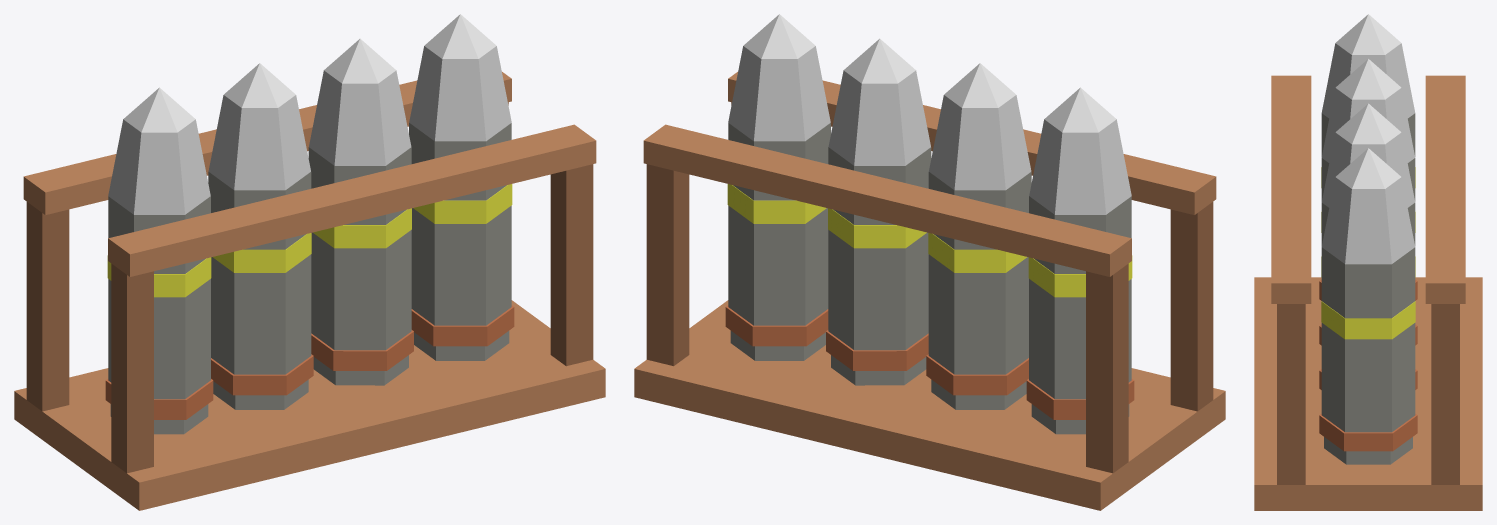
File: ce_ammo_artillery_smk_c.obj
3 views of the same model, side by side, from view 1: azimuth 30°, elevation 25°; view 2: azimuth 150°, elevation 25°; view 3: azimuth 270°, elevation 25° (orthographic). The views are drawn at different scales.
Visible parts, largest first — view 1: ce_ammo_artillery_smk_c_0, ce_ammo_artillery_smk_c_1, ce_ammo_artillery_smk_c_23, ce_ammo_artillery_smk_c_16, ce_ammo_artillery_smk_c_30, ce_ammo_artillery_smk_c_4, ce_ammo_artillery_smk_c_5, ce_ammo_artillery_smk_c_3, ce_ammo_artillery_smk_c_19, ce_ammo_artillery_smk_c_33, ce_ammo_artillery_smk_c_12, ce_ammo_artillery_smk_c_26 (+22 smaller); view 2: ce_ammo_artillery_smk_c_0, ce_ammo_artillery_smk_c_2, ce_ammo_artillery_smk_c_23, ce_ammo_artillery_smk_c_16, ce_ammo_artillery_smk_c_30, ce_ammo_artillery_smk_c_3, ce_ammo_artillery_smk_c_6, ce_ammo_artillery_smk_c_4, ce_ammo_artillery_smk_c_19, ce_ammo_artillery_smk_c_33, ce_ammo_artillery_smk_c_12, ce_ammo_artillery_smk_c_26 (+22 smaller); view 3: ce_ammo_artillery_smk_c_0, ce_ammo_artillery_smk_c_1, ce_ammo_artillery_smk_c_2, ce_ammo_artillery_smk_c_30, ce_ammo_artillery_smk_c_33, ce_ammo_artillery_smk_c_5, ce_ammo_artillery_smk_c_6, ce_ammo_artillery_smk_c_32, ce_ammo_artillery_smk_c_19, ce_ammo_artillery_smk_c_26, ce_ammo_artillery_smk_c_12, ce_ammo_artillery_smk_c_31 (+9 smaller).
Boxes of the visible parts, <box> form: ce_ammo_artillery_smk_c_0: <box>14,300,605,510</box>; ce_ammo_artillery_smk_c_1: <box>108,124,596,276</box>; ce_ammo_artillery_smk_c_23: <box>311,230,411,350</box>; ce_ammo_artillery_smk_c_16: <box>211,254,311,374</box>; ce_ammo_artillery_smk_c_30: <box>411,205,511,325</box>; ce_ammo_artillery_smk_c_4: <box>26,202,69,411</box>; ce_ammo_artillery_smk_c_5: <box>550,164,593,366</box>; ce_ammo_artillery_smk_c_3: <box>111,263,153,473</box>; ce_ammo_artillery_smk_c_19: <box>208,95,310,190</box>; ce_ammo_artillery_smk_c_33: <box>409,46,511,141</box>; ce_ammo_artillery_smk_c_12: <box>108,119,210,214</box>; ce_ammo_artillery_smk_c_26: <box>309,70,411,165</box>; ce_ammo_artillery_smk_c_0: <box>634,300,1225,510</box>; ce_ammo_artillery_smk_c_2: <box>643,124,1131,276</box>; ce_ammo_artillery_smk_c_23: <box>828,230,928,350</box>; ce_ammo_artillery_smk_c_16: <box>928,254,1028,374</box>; ce_ammo_artillery_smk_c_30: <box>728,205,828,325</box>; ce_ammo_artillery_smk_c_3: <box>1170,202,1213,411</box>; ce_ammo_artillery_smk_c_6: <box>646,164,689,366</box>; ce_ammo_artillery_smk_c_4: <box>1086,263,1128,473</box>; ce_ammo_artillery_smk_c_19: <box>929,95,1031,190</box>; ce_ammo_artillery_smk_c_33: <box>728,46,830,141</box>; ce_ammo_artillery_smk_c_12: <box>1029,119,1131,214</box>; ce_ammo_artillery_smk_c_26: <box>828,70,930,165</box>; ce_ammo_artillery_smk_c_0: <box>1254,277,1482,510</box>; ce_ammo_artillery_smk_c_1: <box>1271,75,1311,303</box>; ce_ammo_artillery_smk_c_2: <box>1425,75,1465,303</box>; ce_ammo_artillery_smk_c_30: <box>1321,323,1415,432</box>; ce_ammo_artillery_smk_c_33: <box>1321,177,1415,264</box>; ce_ammo_artillery_smk_c_5: <box>1277,304,1305,484</box>; ce_ammo_artillery_smk_c_6: <box>1431,304,1459,484</box>; ce_ammo_artillery_smk_c_32: <box>1321,247,1415,318</box>; ce_ammo_artillery_smk_c_19: <box>1321,88,1415,162</box>; ce_ammo_artillery_smk_c_26: <box>1321,132,1415,207</box>; ce_ammo_artillery_smk_c_12: <box>1321,43,1415,118</box>; ce_ammo_artillery_smk_c_31: <box>1321,301,1415,339</box>.
Size of the model in its own units: 0.86 by 0.63 by 0.4.
